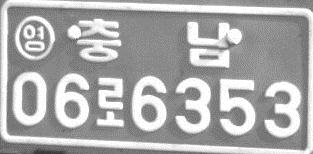0: (11, 70, 47, 127)
3: (173, 76, 211, 136), (263, 80, 302, 138)
5: (218, 77, 256, 136)
6: (53, 71, 90, 129), (130, 74, 166, 133)
로: (95, 77, 125, 128)
영: (14, 14, 55, 61)
충남_D: (76, 16, 231, 68)
